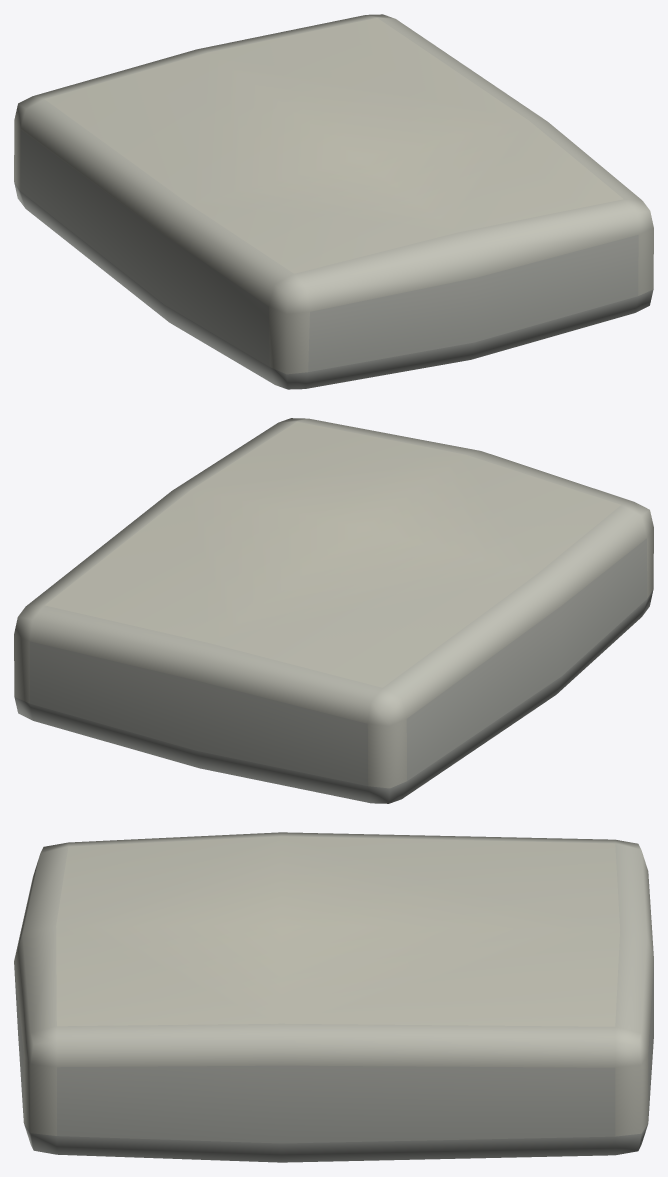
File: trim_stone2_1_LOD_setup.fbx
The picture shows the model from 3 angles, top to bottom: view 1: azimuth 30°, elevation 25°; view 2: azimuth 150°, elevation 25°; view 3: azimuth 270°, elevation 25°; orthographic projection. The views are drawn at different scales.
Visible parts, largest first — view 1: trim_stone2_1_LOD0; view 2: trim_stone2_1_LOD0; view 3: trim_stone2_1_LOD0.
Boxes of the visible parts, x1,y1,x2,y2 form: trim_stone2_1_LOD0: (14, 14, 653, 389); trim_stone2_1_LOD0: (14, 418, 653, 803); trim_stone2_1_LOD0: (14, 832, 653, 1162).
Size of what is drawn, in the model's own units: 108 by 33.66 by 136.
